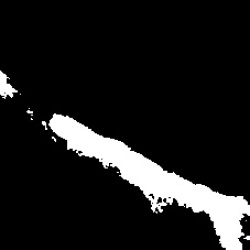crack: (48, 115, 248, 249), (2, 73, 18, 99)
